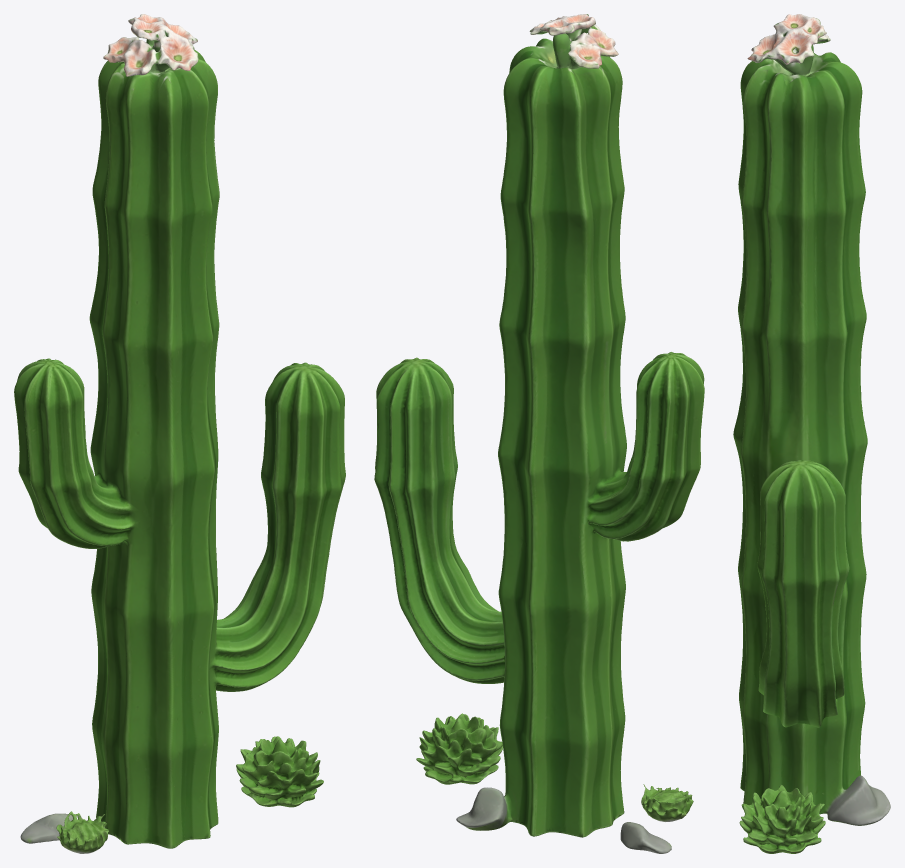
Rendered from caatinga_mandacaru.glb.
3 renders of one model, left to right at view 1: azimuth 30°, elevation 25°; view 2: azimuth 150°, elevation 25°; view 3: azimuth 270°, elevation 25°, orthographic. The views are drawn at different scales.
Bounding box in the file's own units: 0.7862 × 1.89 × 0.3502.
1 material, 1 textured.
